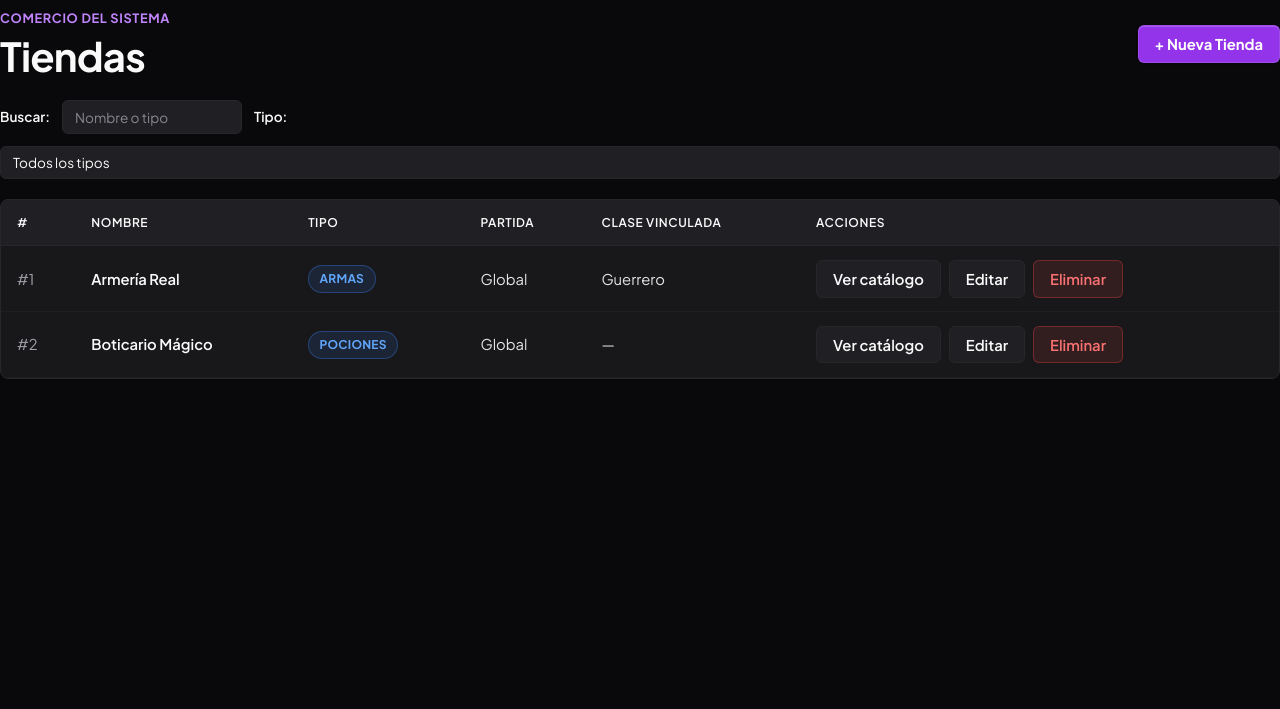
TiendasPage › permite a un anfitrión abrir y crear una nueva tienda
Expected: the text "Armería Real" is shown, [75,246,292,312]
Click the button "+ Nueva Tienda" at point(1209, 44), box [1138,25,1279,63]
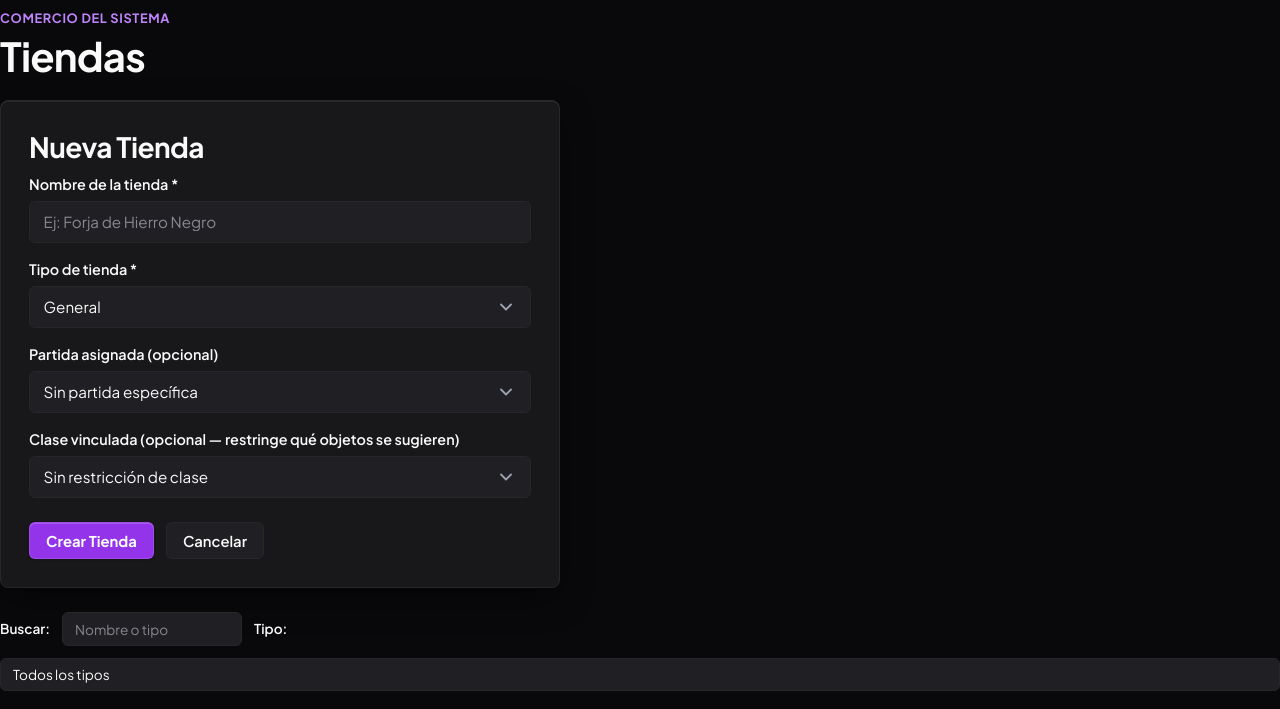
Expected: the heading "Nueva Tienda" is shown, [29,130,204,164]
Type "Forja Mística" into the field with placeholder "Ej: Forja de Hierro Negro" at point(280, 222), box [29,201,531,243]
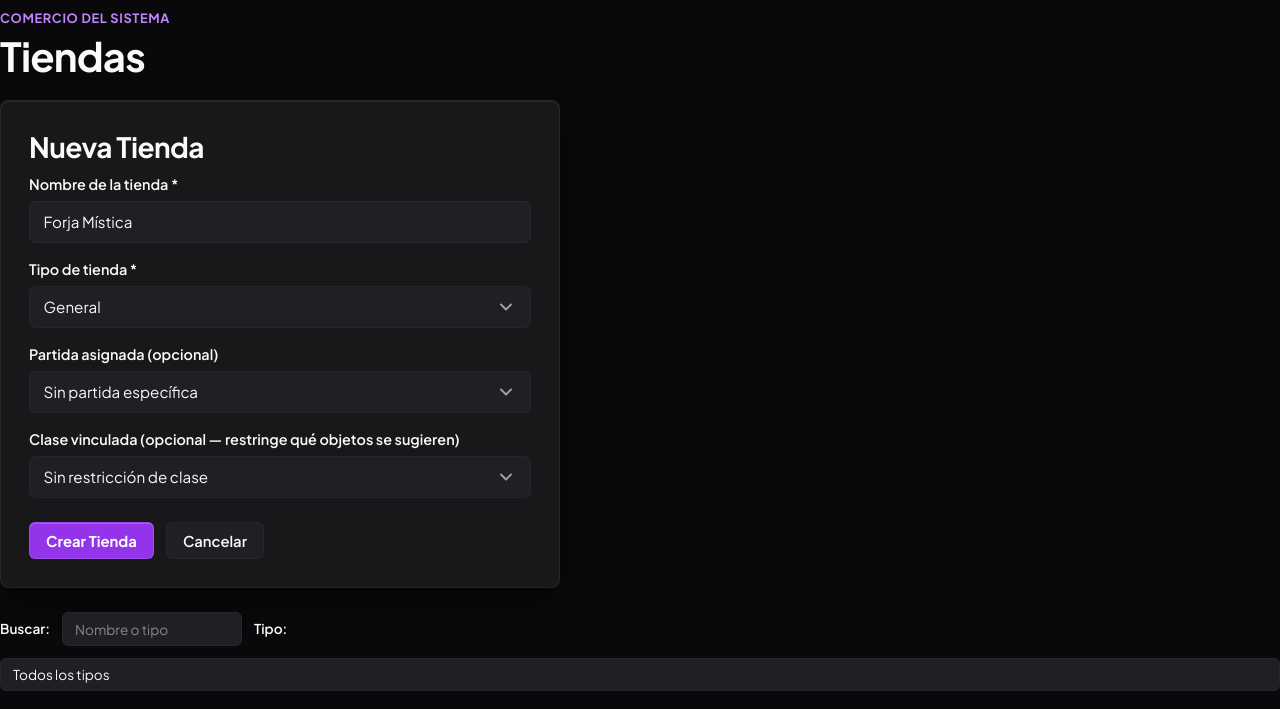
Click the button "Crear Tienda" at point(91, 541), box [29,522,154,559]
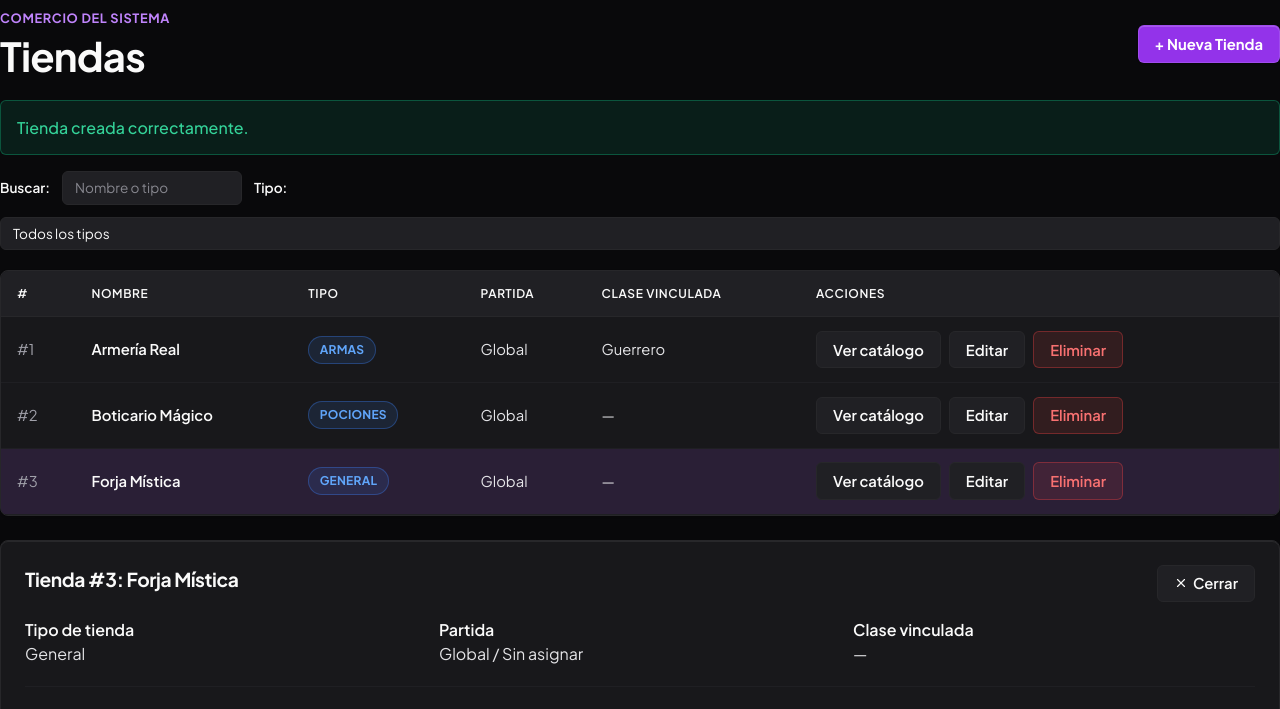
Expected: the text "Tienda creada correctamente." is shown, [0,100,1279,155]
